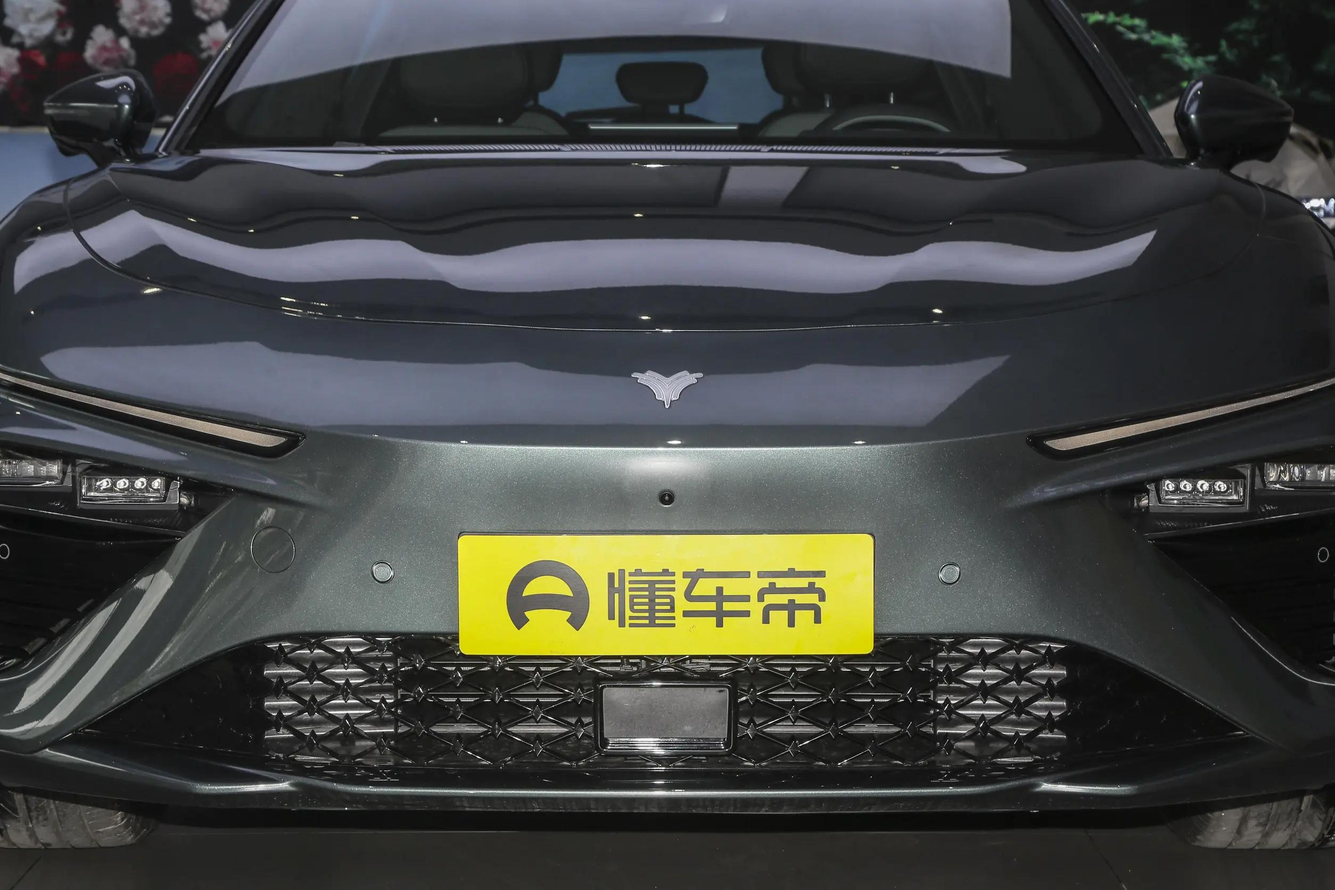NETA: (630, 369, 704, 411)
